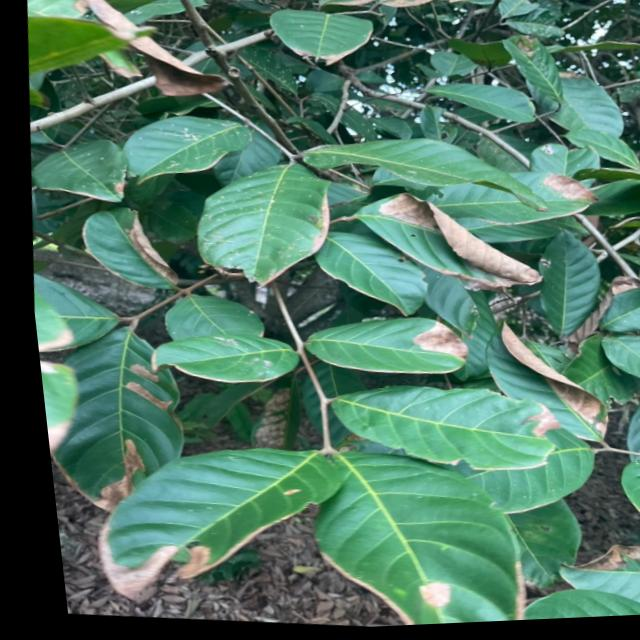Leaf Blight: (83, 448, 336, 605), (42, 331, 176, 512), (346, 199, 532, 294), (469, 325, 600, 448), (195, 165, 324, 289), (82, 0, 227, 95), (301, 320, 460, 375), (77, 212, 176, 292), (539, 549, 640, 614), (337, 0, 547, 10), (541, 177, 594, 206), (401, 583, 443, 613), (516, 415, 548, 440)
